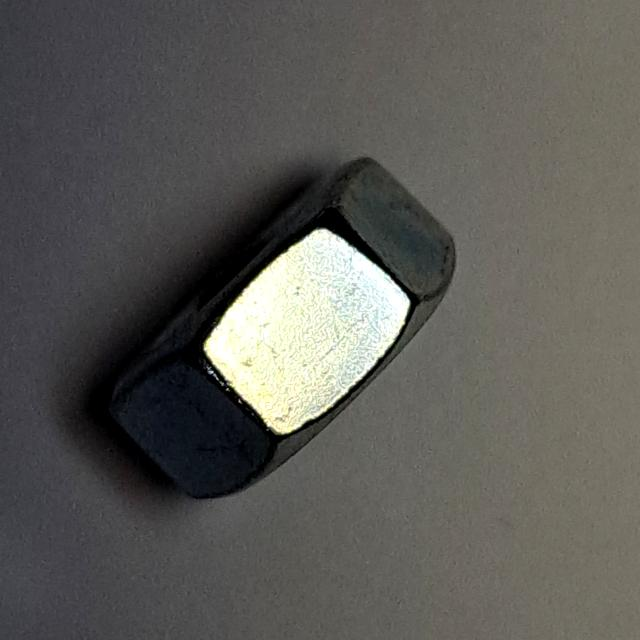Side_Excellent: (87, 139, 469, 513)
